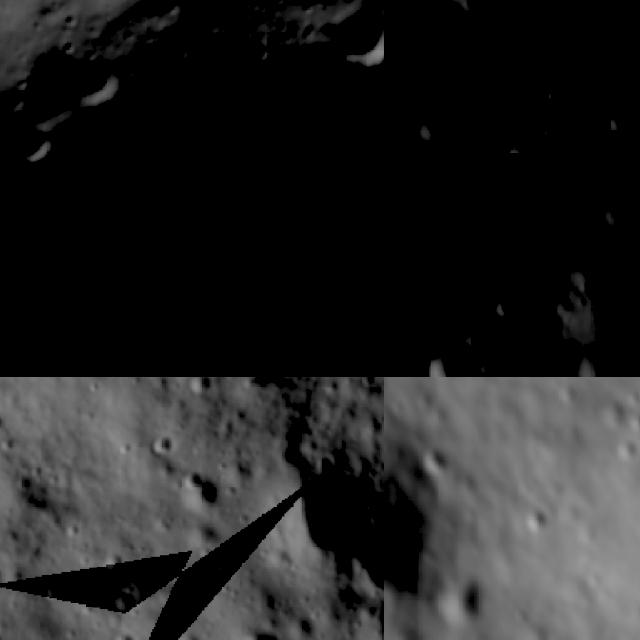crater: (384, 446, 460, 609), (47, 44, 129, 106), (325, 4, 384, 73), (2, 111, 66, 173), (595, 249, 640, 337), (492, 130, 555, 191), (425, 332, 496, 377), (599, 51, 640, 115), (600, 178, 640, 241), (457, 573, 497, 628), (522, 498, 563, 544), (580, 342, 626, 377), (454, 56, 490, 99), (424, 442, 461, 481), (44, 568, 68, 606), (146, 436, 175, 462), (521, 0, 556, 18), (185, 377, 212, 399), (230, 628, 270, 640), (109, 587, 128, 611), (106, 557, 129, 572), (116, 631, 137, 640)
